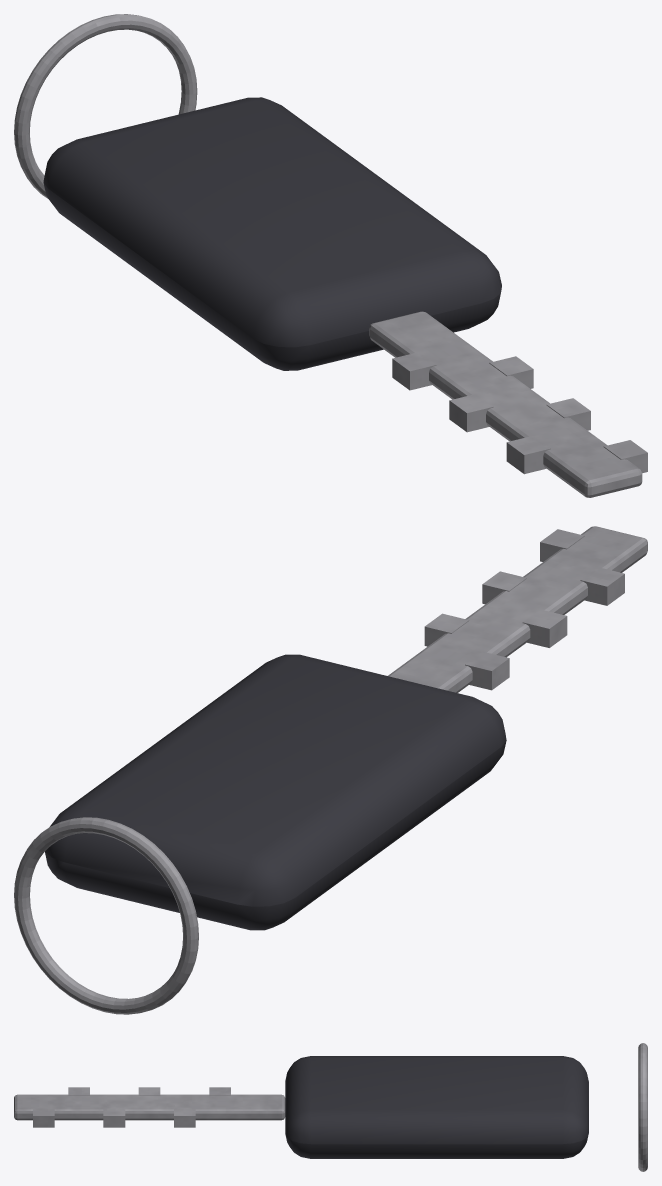
3 renders of one model, top to bottom at view 1: azimuth 30°, elevation 25°; view 2: azimuth 150°, elevation 25°; view 3: azimuth 270°, elevation 25°, orthographic. The views are drawn at different scales.
Visible parts, largest first — view 1: griff, bart, ring; view 2: griff, bart, ring; view 3: griff, bart, ring.
Part boxes in pixels (x1,y1,x2,y2): griff: [43, 97, 501, 370]; bart: [369, 311, 647, 497]; ring: [14, 14, 197, 198]; griff: [45, 654, 506, 930]; bart: [388, 526, 647, 692]; ring: [14, 817, 198, 1014]; griff: [285, 1056, 588, 1158]; bart: [14, 1087, 285, 1127]; ring: [638, 1043, 647, 1171].
Bounding box in the file's own units: 0.032 × 0.0238 × 0.1169.
Materials: 3 (2 with a texture image).
